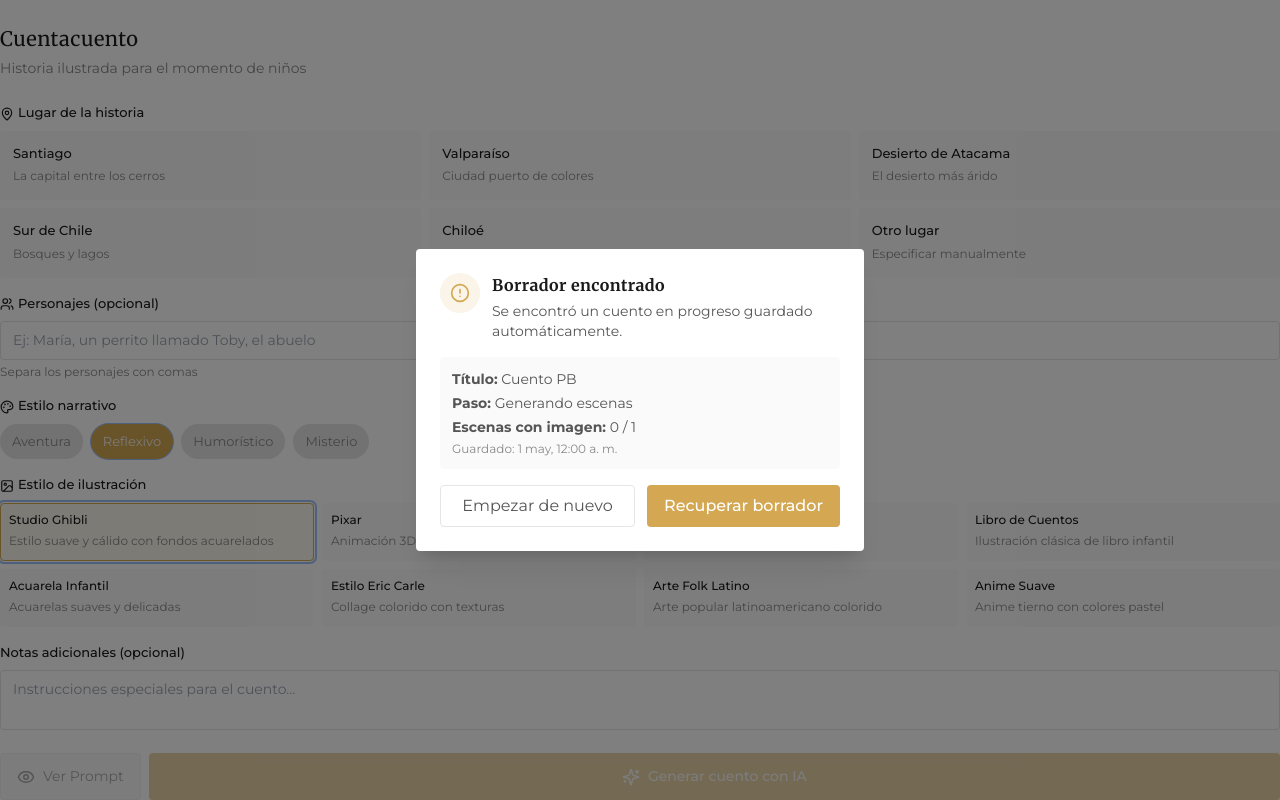
PB T-B.7 (4) — regenerar y "Empezar de nuevo" no borran bytes › "Empezar de nuevo" descarta el borrador recuperable sin tocar Storage
Click the button "Empezar de nuevo". click: (538, 506)
box: [440,485,635,527]
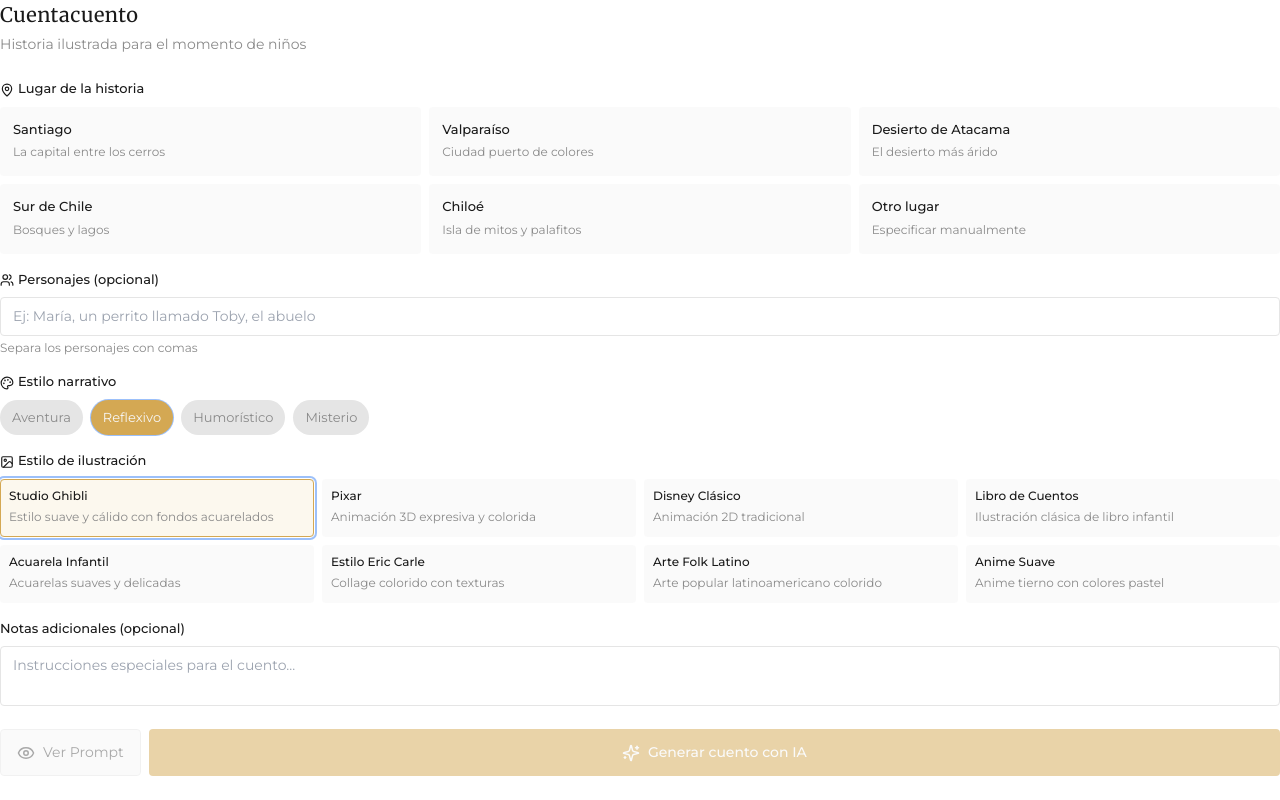
Now the button "Empezar de nuevo" is gone
